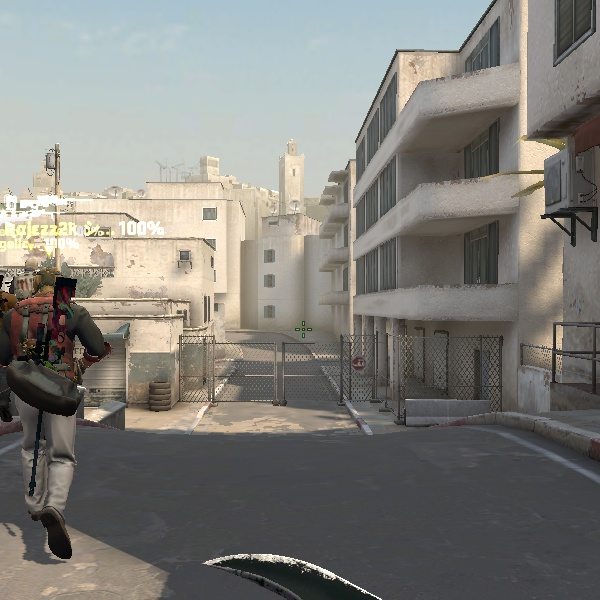t_body: (2, 248, 129, 573)
t_head: (21, 256, 81, 318)
